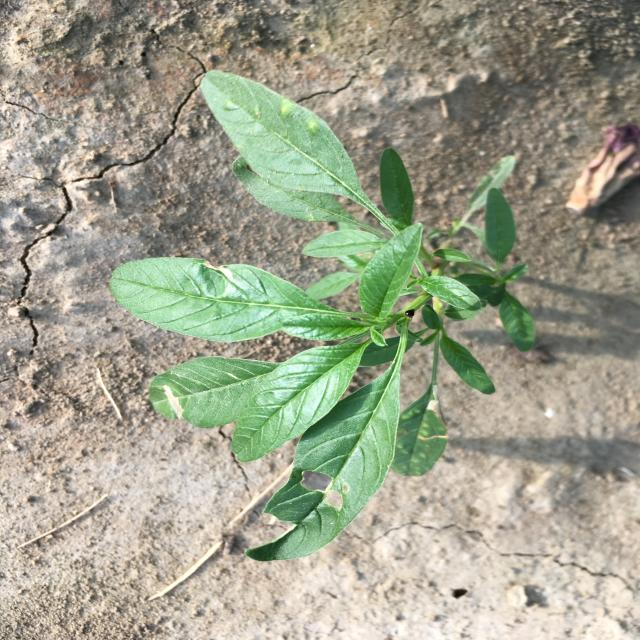Waterhemp: (109, 70, 535, 562)
